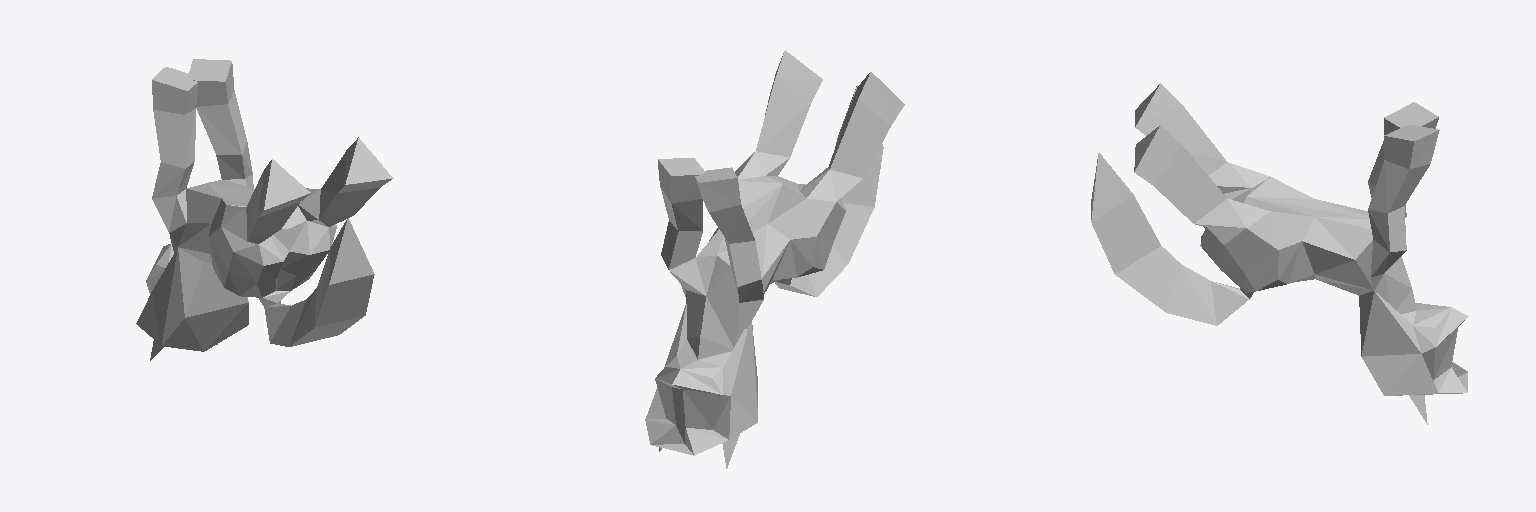
The model's file is PONY_000009.obj.
3 renders of one model, left to right at view 1: azimuth 30°, elevation 25°; view 2: azimuth 150°, elevation 25°; view 3: azimuth 270°, elevation 25°, orthographic.
Parts seen in each view (by area): view 1: pony; view 2: pony; view 3: pony.
Part boxes in pixels (left/top/right/bottom): pony: left=136, top=59, right=393, bottom=360; pony: left=645, top=50, right=904, bottom=468; pony: left=1091, top=83, right=1468, bottom=424.
Size of the model in its own units: 3.96 by 8.9 by 10.02.